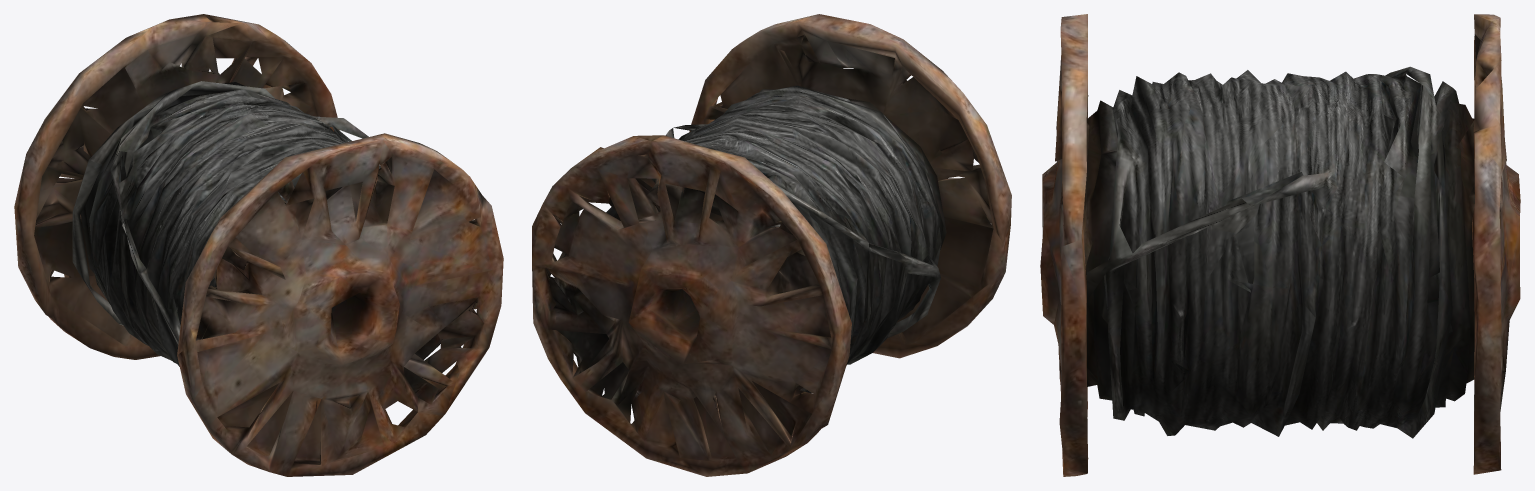
The model's file is qr_cabledrum2.glb.
3 renders of one model, left to right at view 1: azimuth 30°, elevation 25°; view 2: azimuth 150°, elevation 25°; view 3: azimuth 270°, elevation 25°, orthographic. The views are drawn at different scales.
Parts seen in each view (by area): view 1: tripo_node_59235a08-3cc7-47f2-a622-6182dcaf454f; view 2: tripo_node_59235a08-3cc7-47f2-a622-6182dcaf454f; view 3: tripo_node_59235a08-3cc7-47f2-a622-6182dcaf454f.
Boxes of the visible parts, x1=… form: tripo_node_59235a08-3cc7-47f2-a622-6182dcaf454f: x1=14, y1=14, x2=503, y2=476; tripo_node_59235a08-3cc7-47f2-a622-6182dcaf454f: x1=532, y1=14, x2=1011, y2=476; tripo_node_59235a08-3cc7-47f2-a622-6182dcaf454f: x1=1040, y1=14, x2=1520, y2=476.
Bounding box in the file's own units: 0.9764 × 0.9609 × 1.
Materials: 1 (1 with a texture image).
